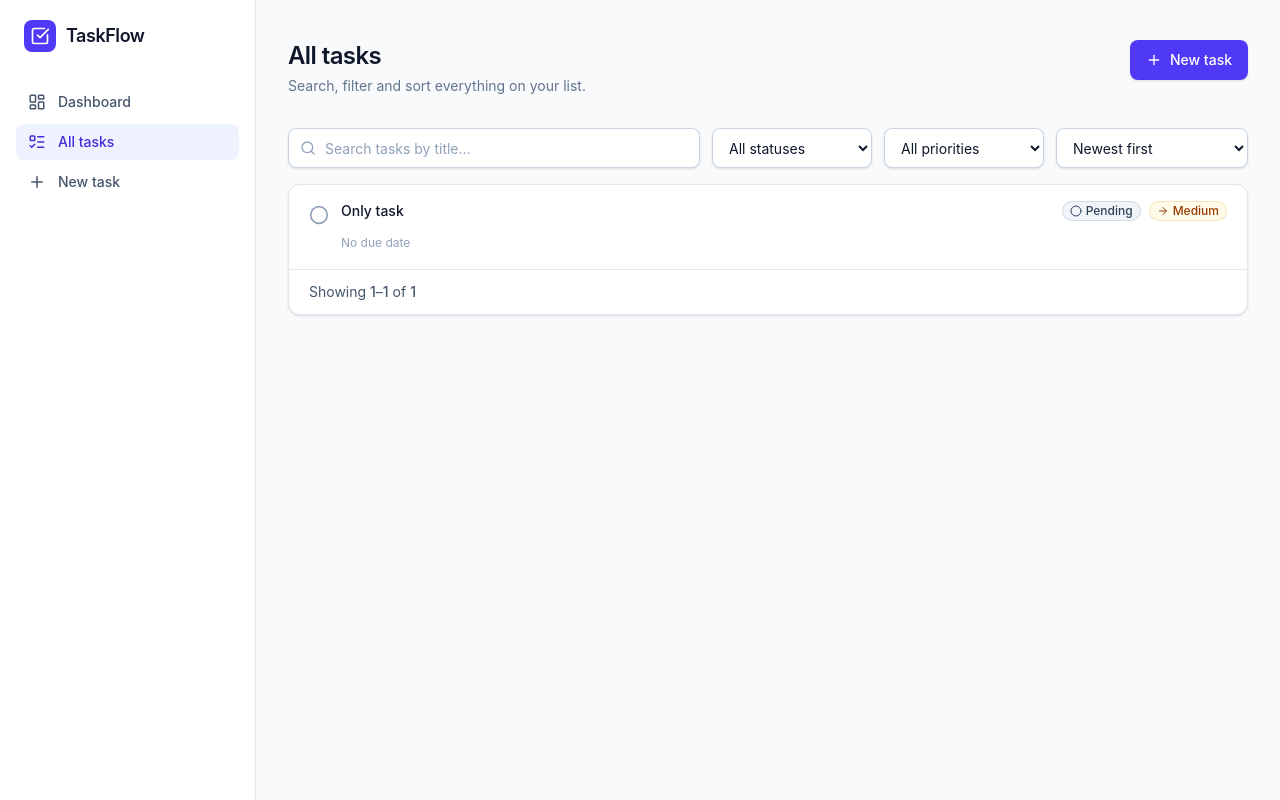
Scenario: All tasks › refetches when a filter changes and offers to clear filters when nothing matches
Expected: the link "Only task" is shown, top-left (341, 201), bottom-right (404, 221)
Select "Low" in the dropdown named "Filter by priority": (964, 148) top-left (884, 128), bottom-right (1044, 168)
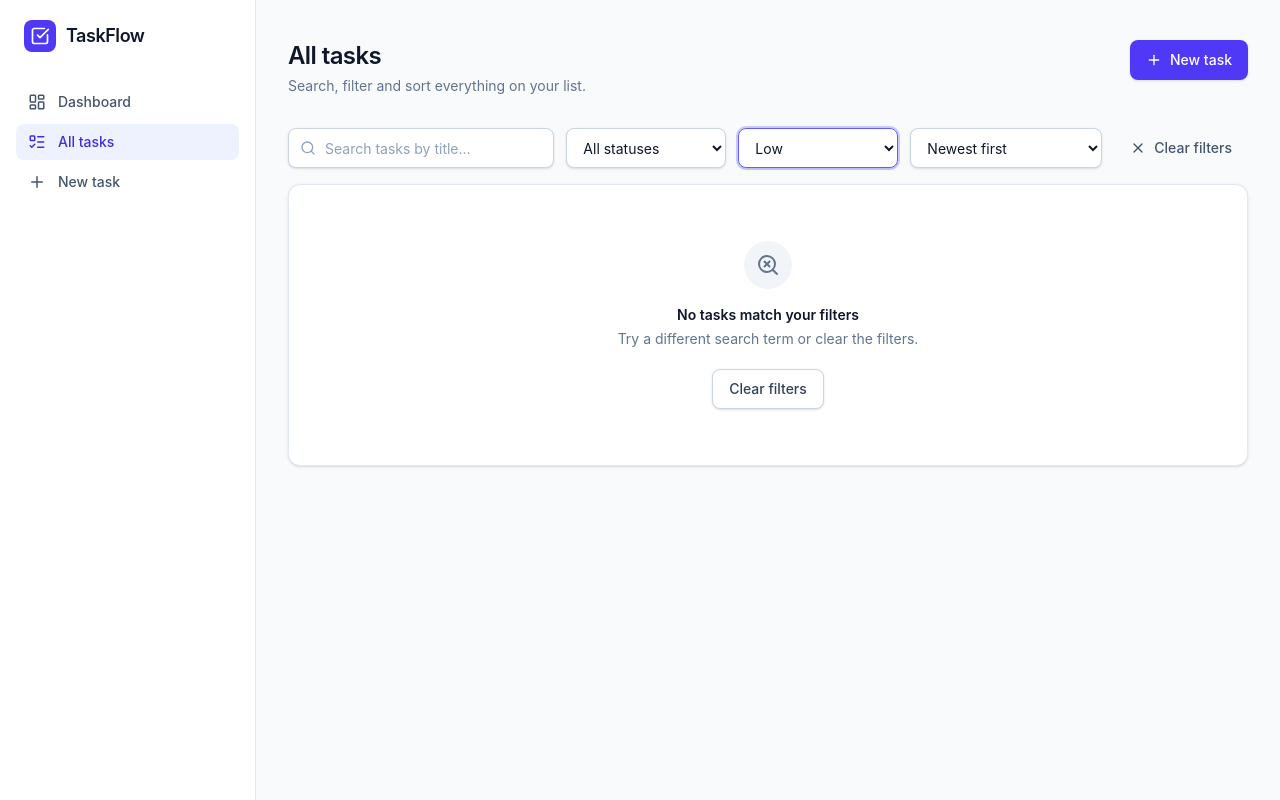
Now the heading "No tasks match your filters" is shown, box top-left (677, 305), bottom-right (859, 325)
